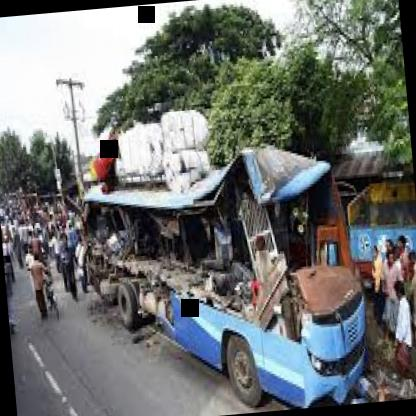accident: (66, 100, 384, 416)
